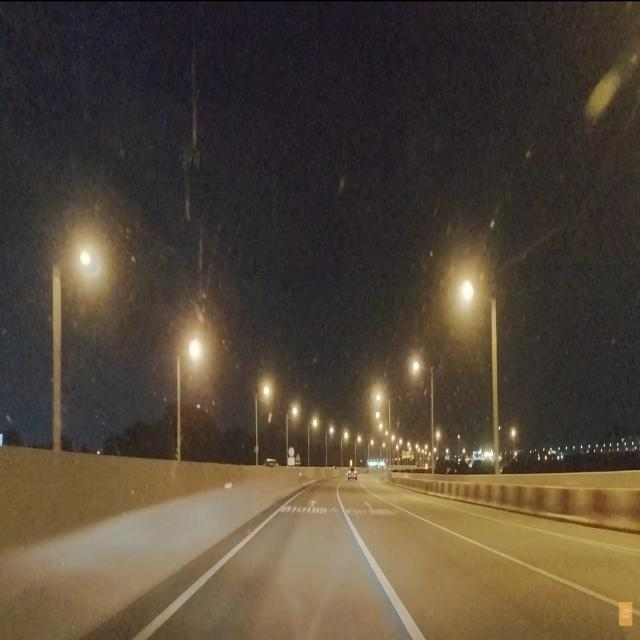forward: (277, 495, 347, 506)
